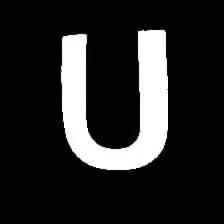LTR_U: (50, 19, 181, 180)
